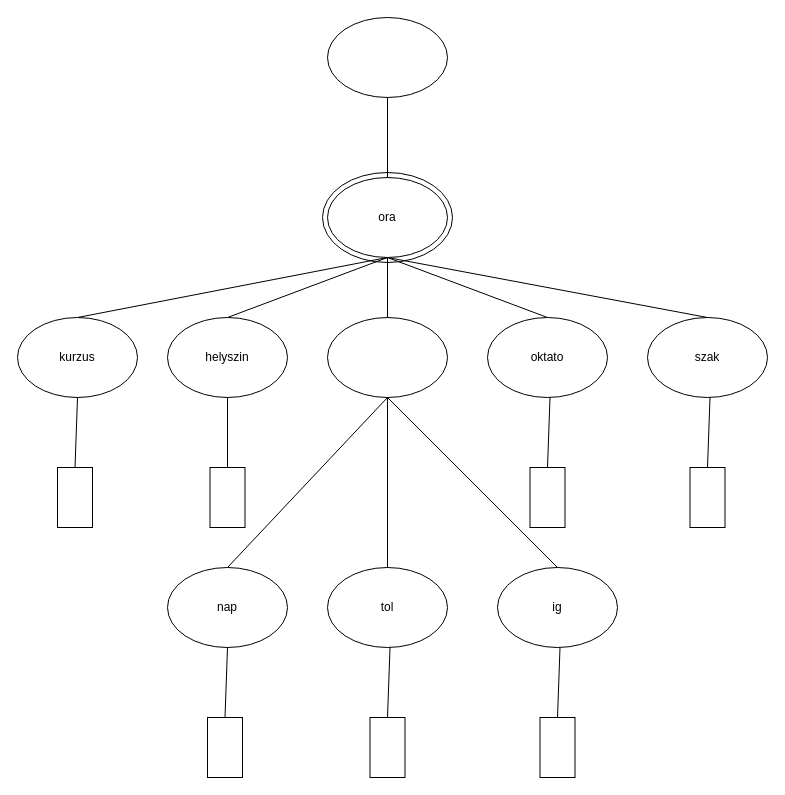
Image size: 785x795. Some labels were removed from this diagram. Each missing label, with the box of its shape:
idopont: (326, 316, 448, 398)
YKPX27_orarend: (326, 16, 448, 98)
